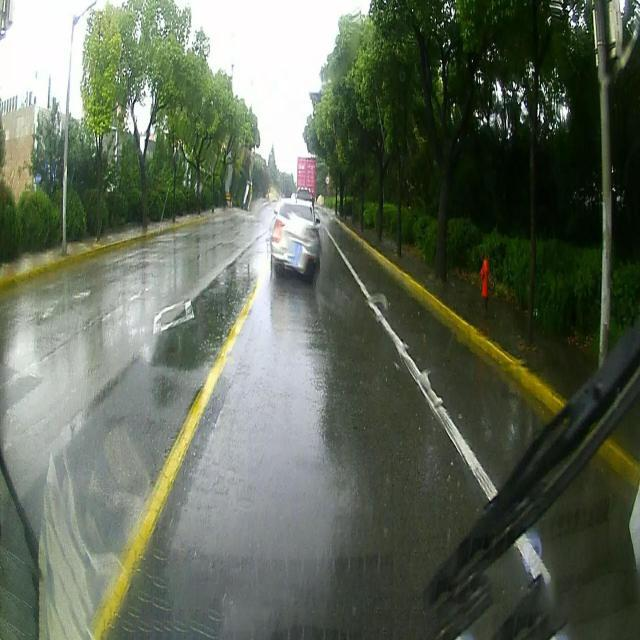car: (268, 196, 320, 280)
